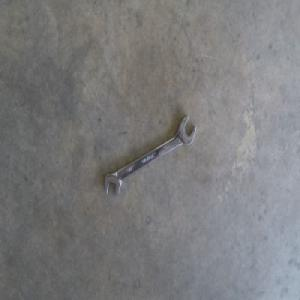Wrench: (104, 114, 196, 199)
